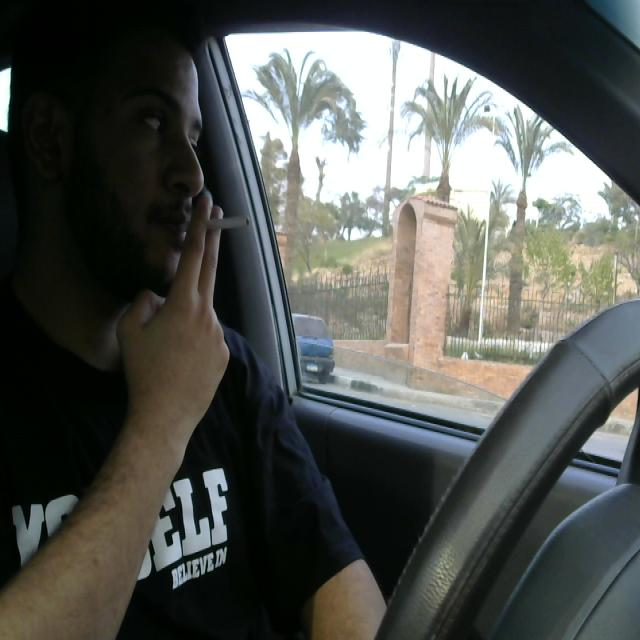smoking: (176, 213, 251, 246)
